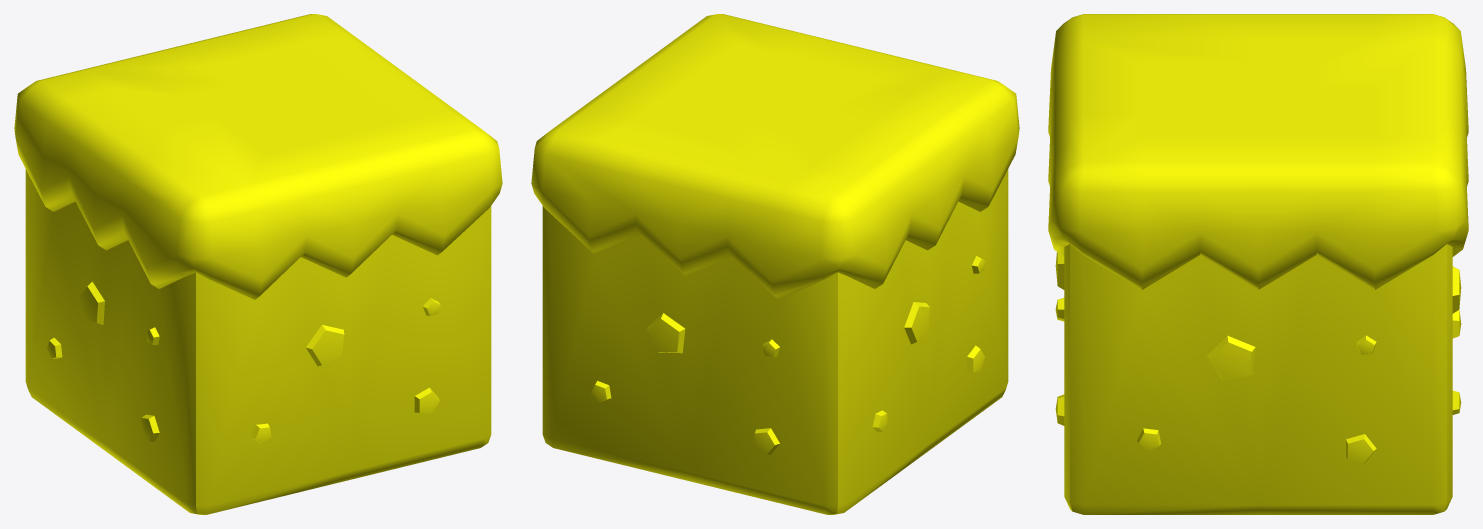
The model's file is kaykit-gravel-with-grass.glb.
3 renders of one model, left to right at view 1: azimuth 30°, elevation 25°; view 2: azimuth 150°, elevation 25°; view 3: azimuth 270°, elevation 25°, orthographic. The views are drawn at different scales.
Visible parts, largest first — view 1: gravel_with_grass; view 2: gravel_with_grass; view 3: gravel_with_grass.
Boxes of the visible parts, x1=… form: gravel_with_grass: x1=14, y1=14, x2=502, y2=514; gravel_with_grass: x1=531, y1=14, x2=1019, y2=514; gravel_with_grass: x1=1048, y1=14, x2=1468, y2=514.
Size of the model in its own units: 2.17 by 2.04 by 2.17.
